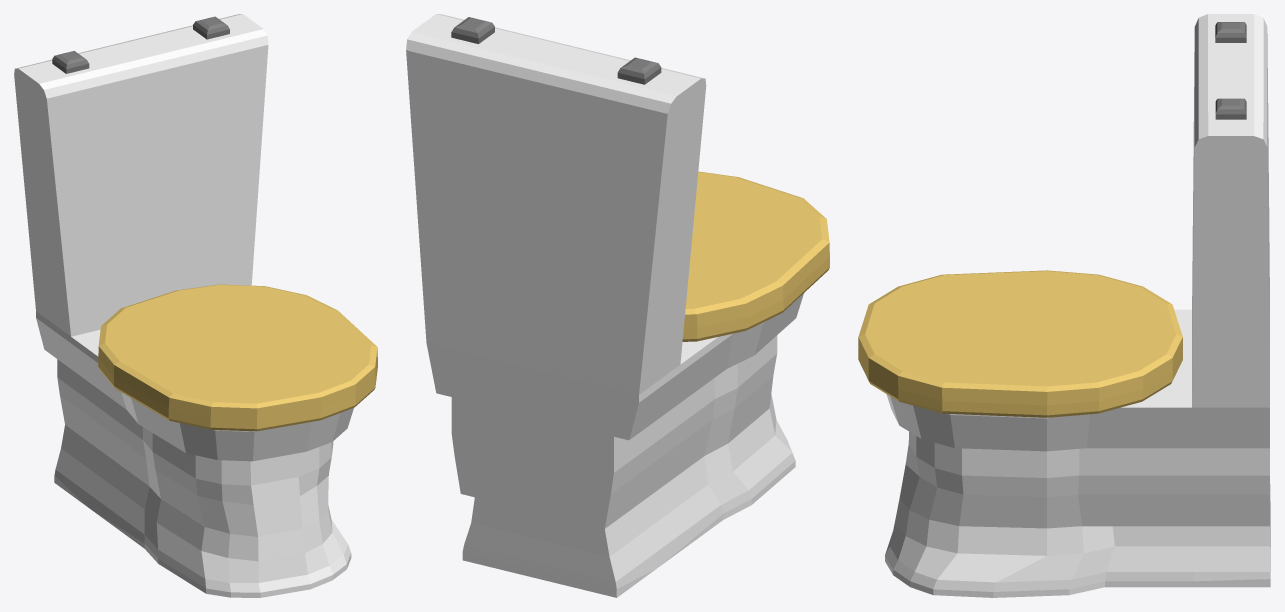
Rendered from Toilet_2.fbx.
3 views of the same model, side by side, from view 1: azimuth 30°, elevation 25°; view 2: azimuth 150°, elevation 25°; view 3: azimuth 270°, elevation 25° (orthographic). The views are drawn at different scales.
Visible parts, largest first — view 1: Toilet_2, Toilet_2 Door; view 2: Toilet_2, Toilet_2 Door; view 3: Toilet_2, Toilet_2 Door.
Boxes of the visible parts, x1=… form: Toilet_2: x1=14, y1=14, x2=353, y2=597; Toilet_2 Door: x1=98, y1=284, x2=377, y2=431; Toilet_2: x1=406, y1=14, x2=803, y2=597; Toilet_2 Door: x1=682, y1=171, x2=829, y2=341; Toilet_2: x1=885, y1=14, x2=1270, y2=597; Toilet_2 Door: x1=858, y1=270, x2=1182, y2=417.
Bounding box in the file's own units: 0.5427 × 1 × 0.7663.
